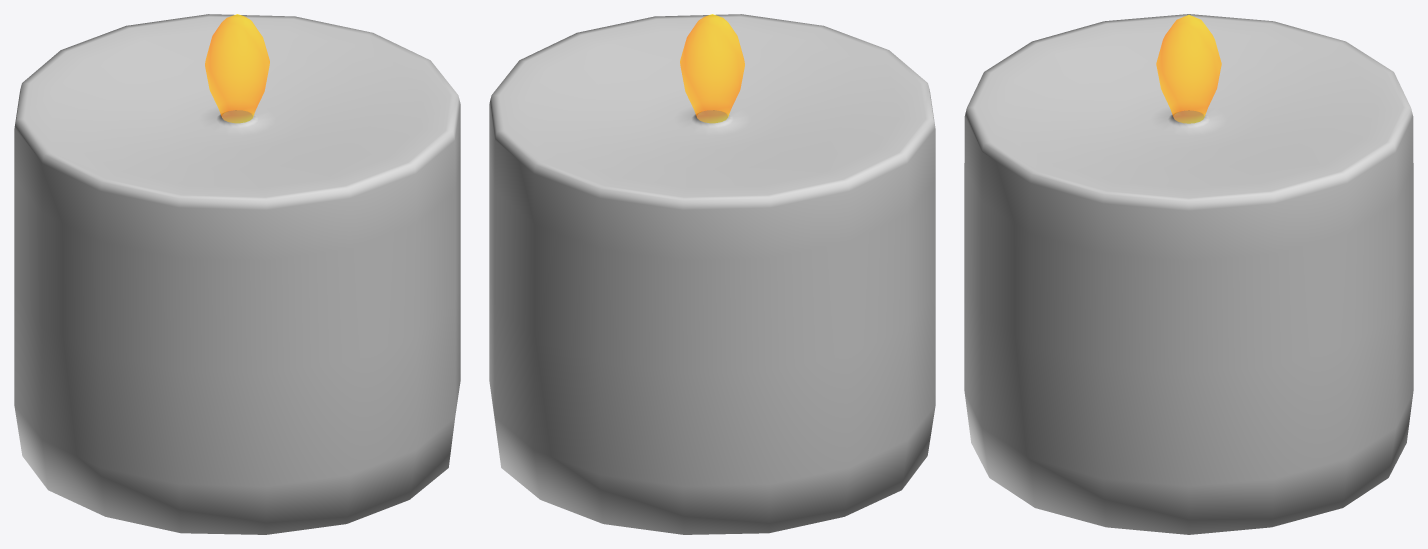
File: Candle_2.fbx
The picture shows the model from 3 angles, left to right: view 1: azimuth 30°, elevation 25°; view 2: azimuth 150°, elevation 25°; view 3: azimuth 270°, elevation 25°; orthographic projection.
Visible parts, largest first — view 1: Candle_2; view 2: Candle_2; view 3: Candle_2.
Boxes of the visible parts, left/top/right/bottom form: Candle_2: left=14, top=14, right=460, bottom=534; Candle_2: left=489, top=14, right=935, bottom=534; Candle_2: left=964, top=14, right=1413, bottom=534.
Bounding box in the file's own units: 8.75 × 9.44 × 8.75.
